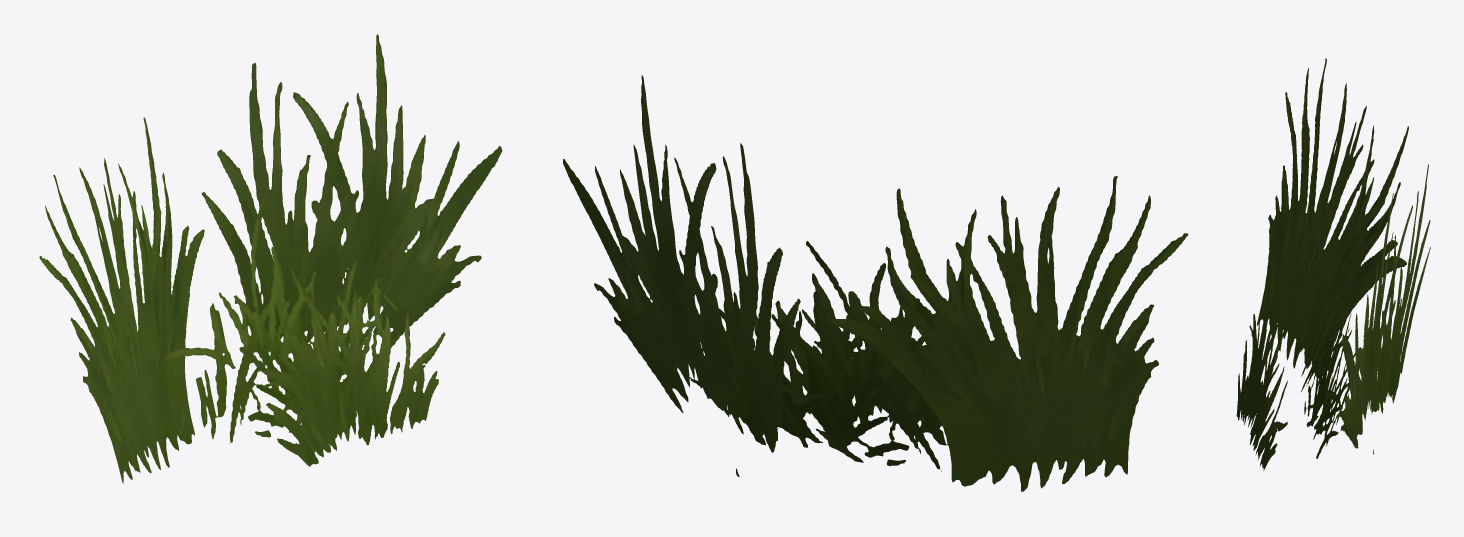
Rendered from plant_yewai_caocong05.FBX.
3 renders of one model, left to right at view 1: azimuth 30°, elevation 25°; view 2: azimuth 150°, elevation 25°; view 3: azimuth 270°, elevation 25°, orthographic. The views are drawn at different scales.
Visible parts, largest first — view 1: plant_yewai_caocong05; view 2: plant_yewai_caocong05; view 3: plant_yewai_caocong05.
Boxes of the visible parts, box(x1,y1,x2,y2) form: plant_yewai_caocong05: box(39, 34, 502, 483); plant_yewai_caocong05: box(563, 75, 1188, 491); plant_yewai_caocong05: box(1236, 58, 1430, 470).
Size of the model in its own units: 2.83 by 1.18 by 1.75.
